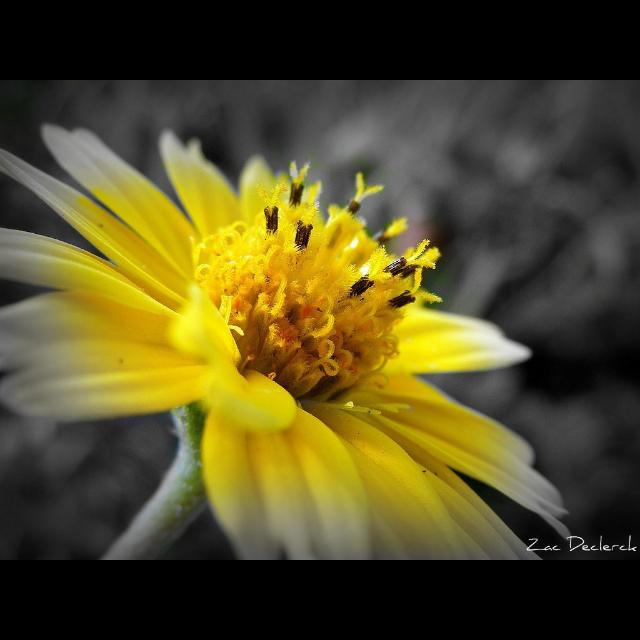Flower: (1, 127, 574, 558)
